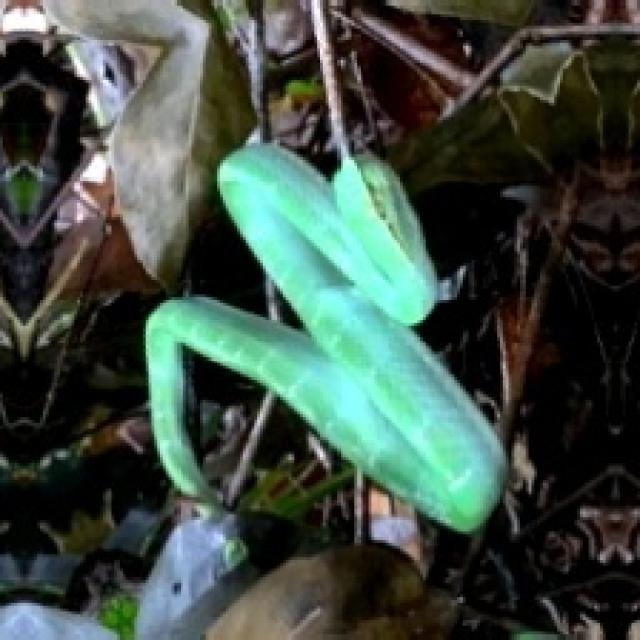north ph temple pitviper: (146, 146, 503, 529)
